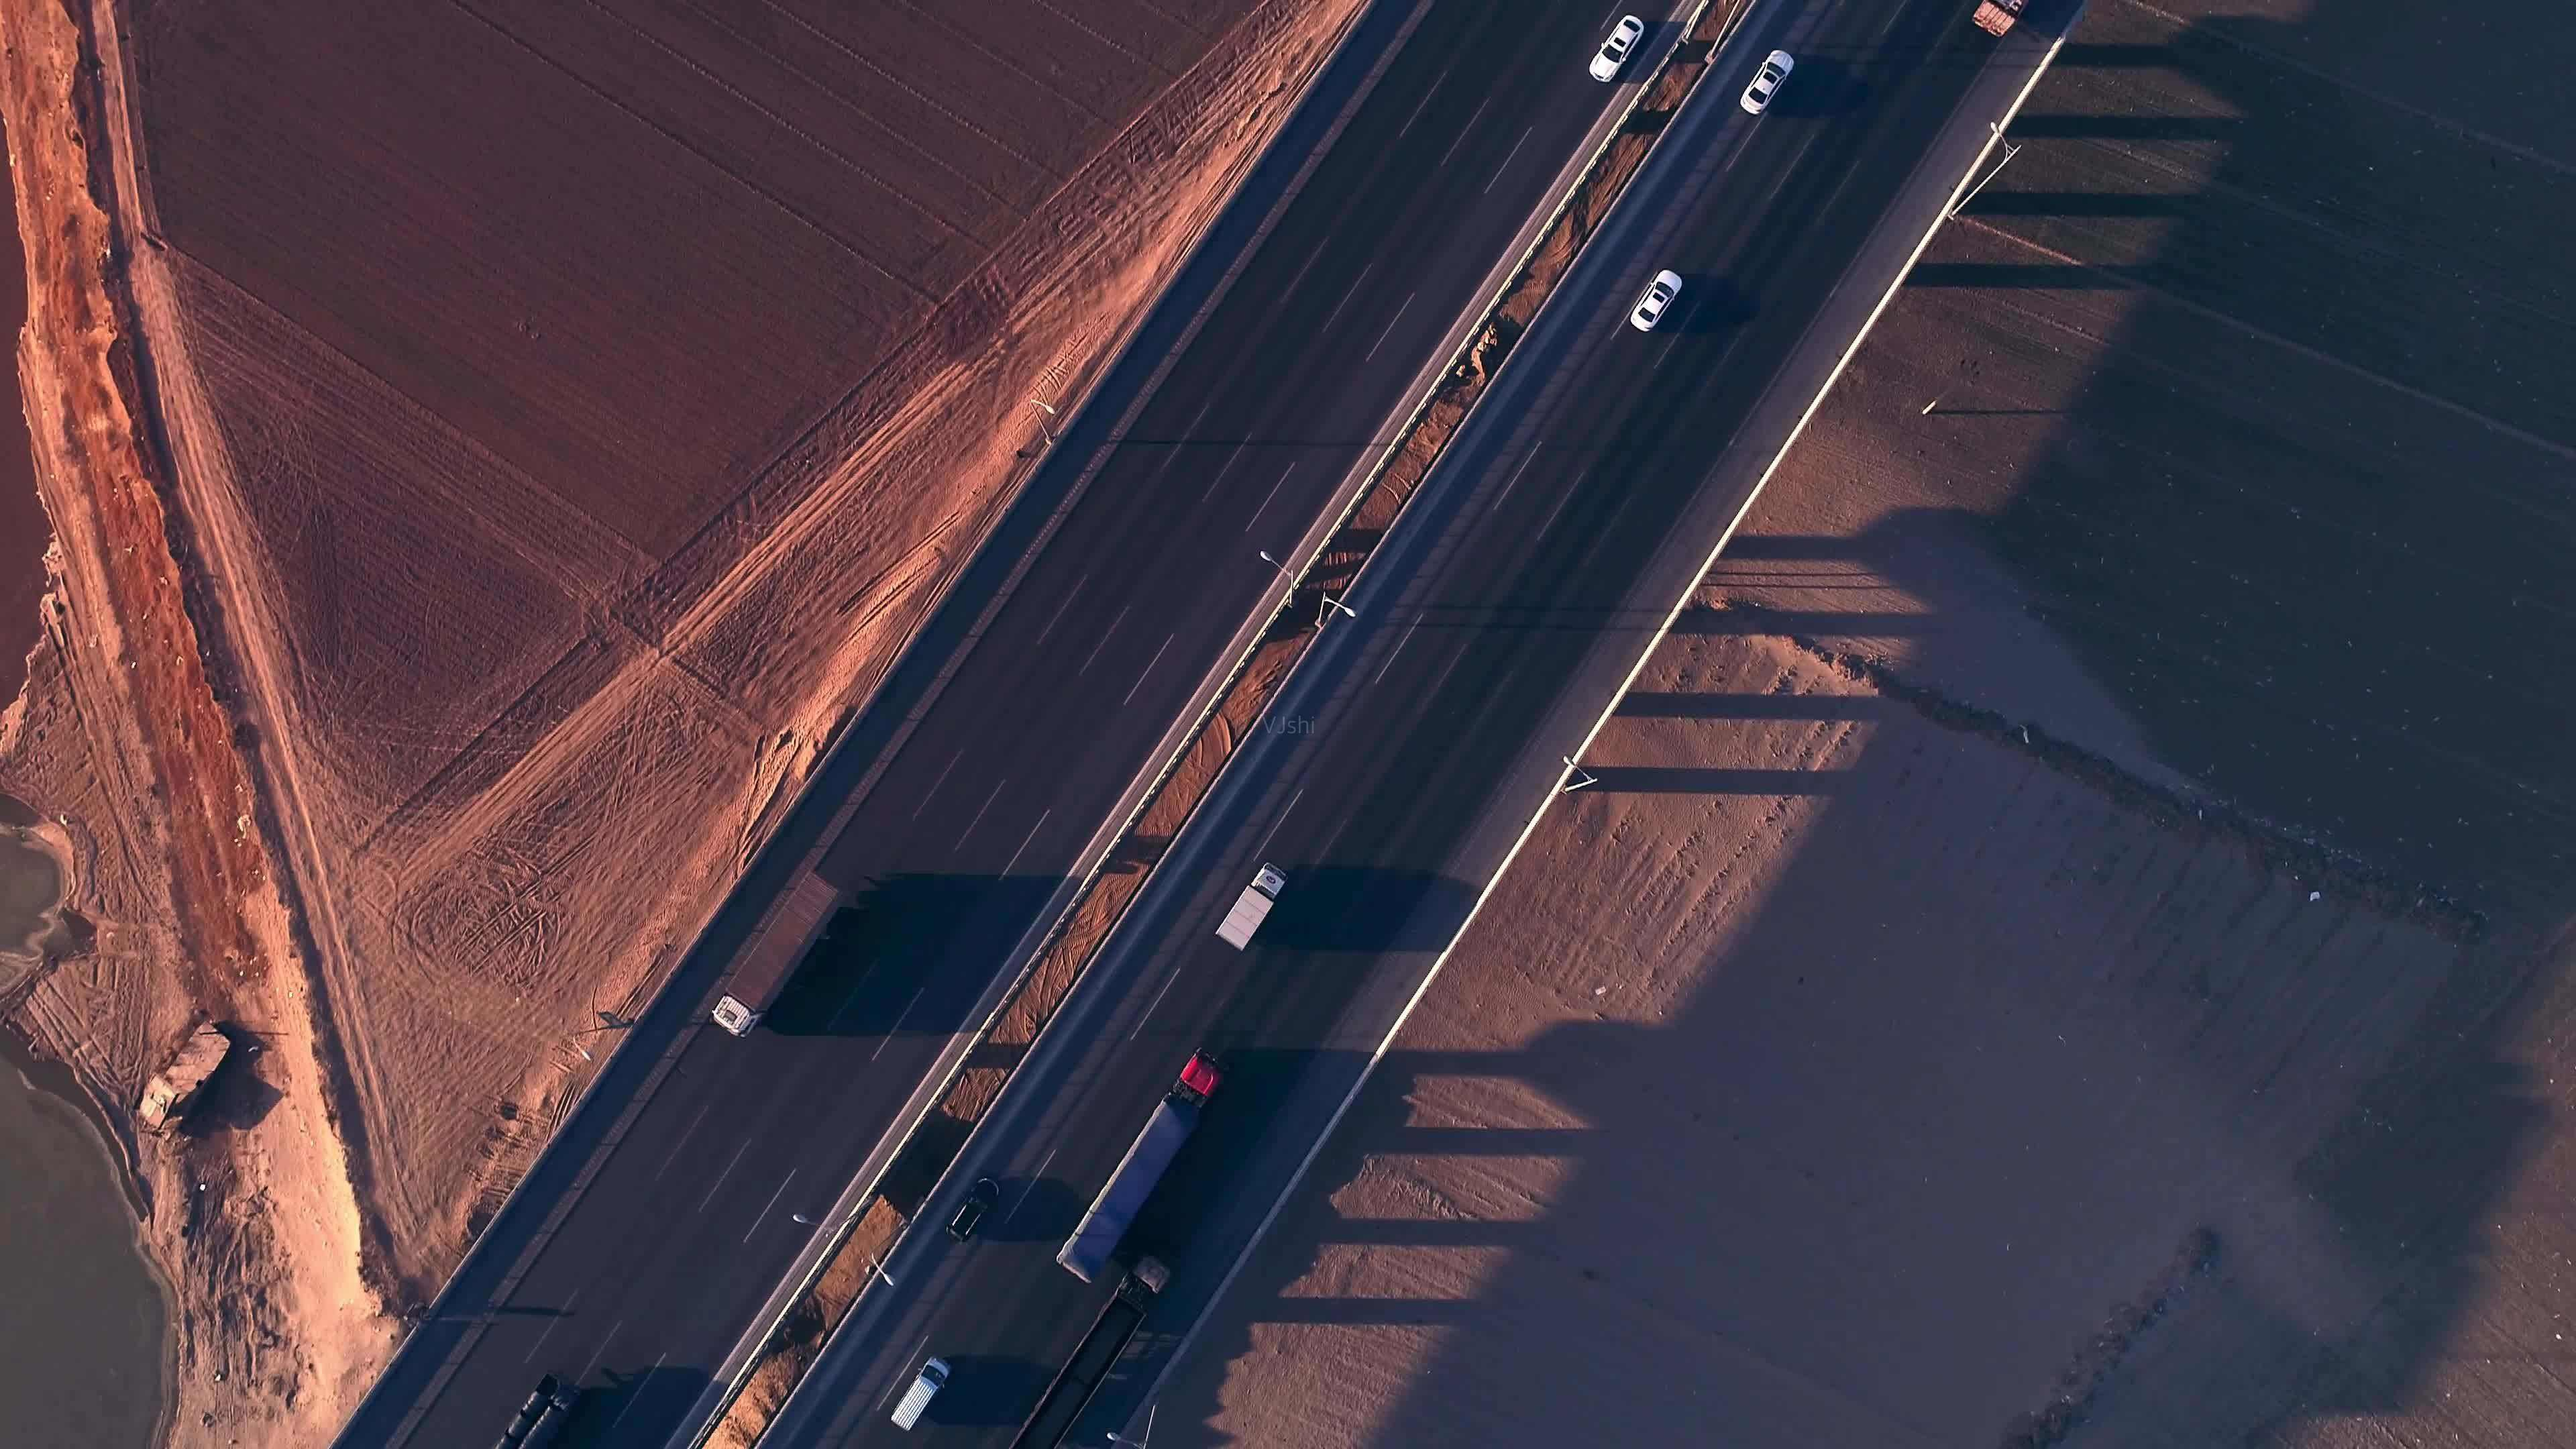Vehicle: (1053, 1047, 1231, 1281), (1005, 1254, 1175, 1449), (708, 869, 846, 1037), (1212, 862, 1288, 954), (494, 1373, 577, 1449), (890, 1355, 954, 1433), (1587, 14, 1645, 85), (1737, 50, 1796, 115), (947, 1177, 1001, 1240), (1629, 269, 1683, 333)
